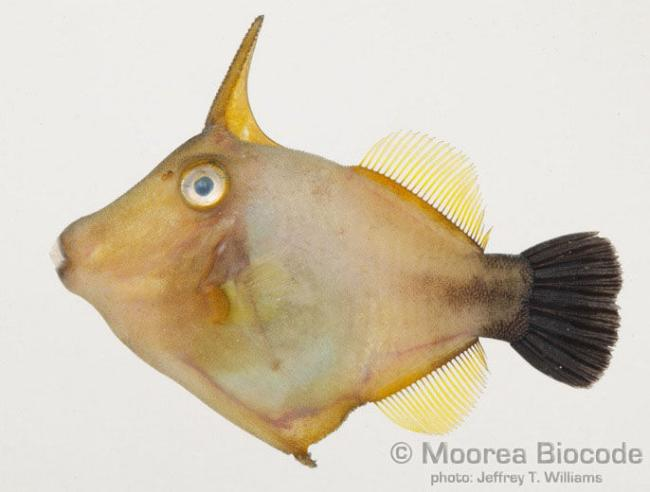fish: (50, 15, 621, 468)
